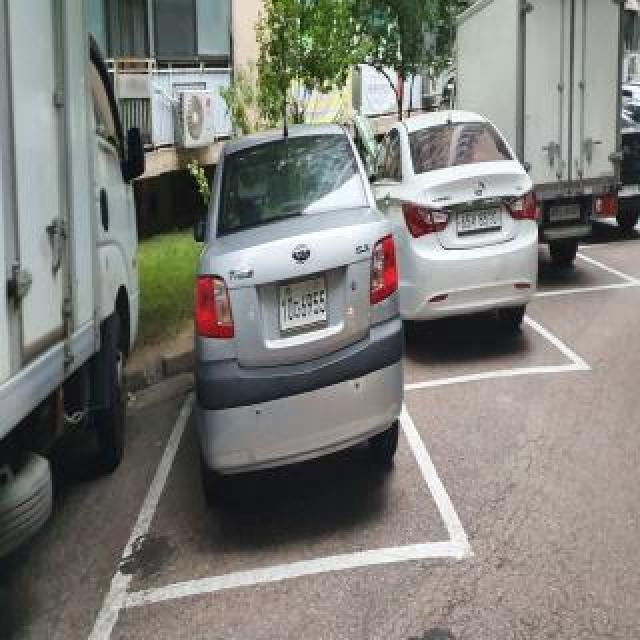car: (188, 111, 414, 514)
illegal_plate: (274, 272, 331, 335)
